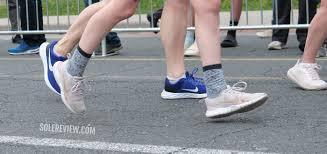nike logo: (179, 82, 202, 95), (45, 45, 55, 74)
